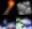helmet: (0, 15, 16, 29), (16, 15, 32, 29)
stone: (16, 0, 32, 15)
torchT: (0, 0, 16, 15)
